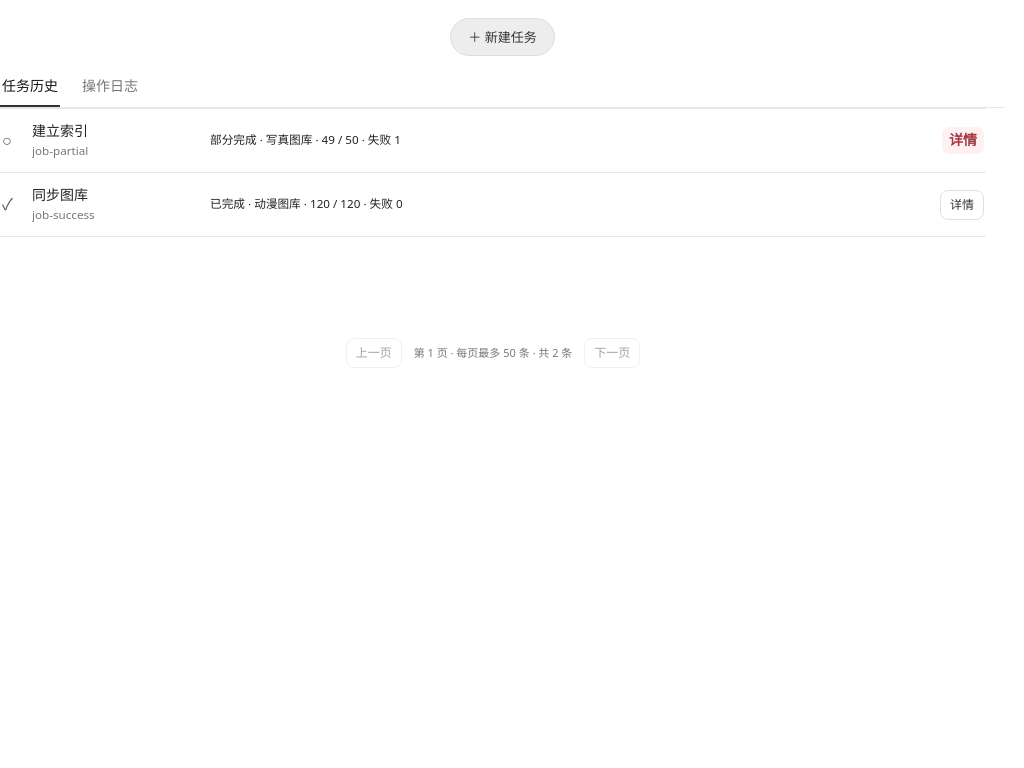
Scenario: TasksPage › shows isolated error images without hiding the rest of the task history
Expected: the number of rows with class "activity-row" is 2, [0,109,986,173]; [0,173,986,237]
Step 1. Click the button with class "error-count-button" → {"x": 963, "y": 140}, box [942,127,984,154]
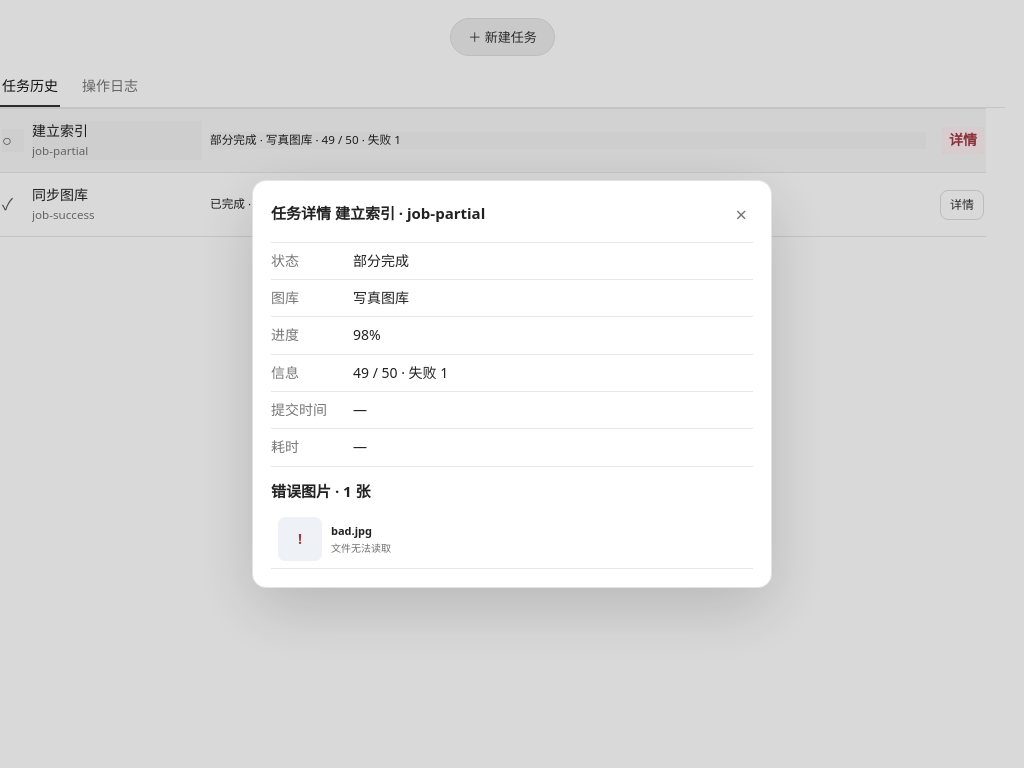
Expected: the text "job-partial" is shown, [32,143,88,158]
Expected: the text "bad.jpg" is shown, [331,523,372,538]
Expected: the text "文件无法读取" is shown, [331,541,391,555]
